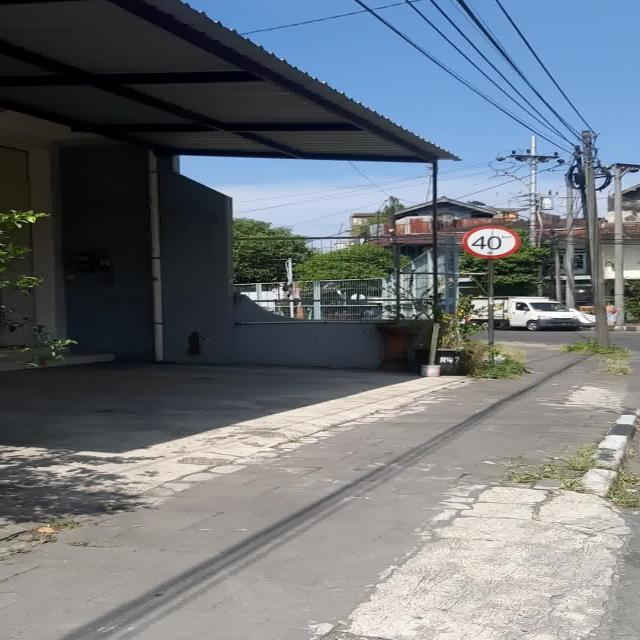Kecepatan Maks. 40 km: (462, 226, 520, 260)
